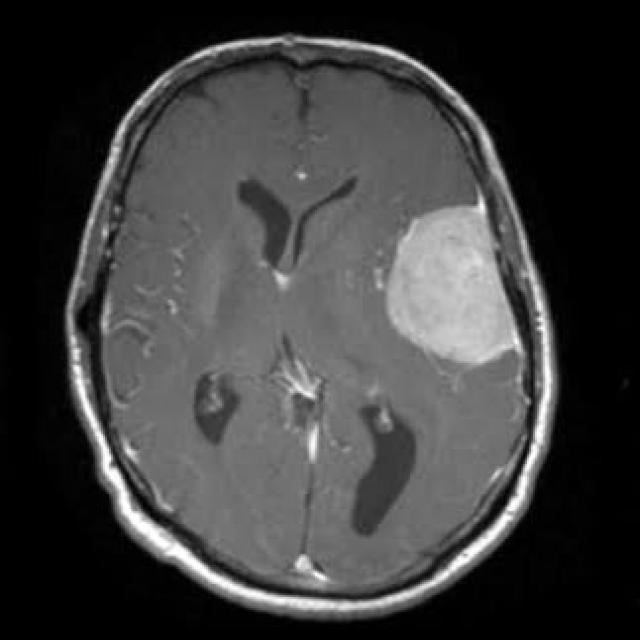Meningioma: (385, 202, 519, 366)
